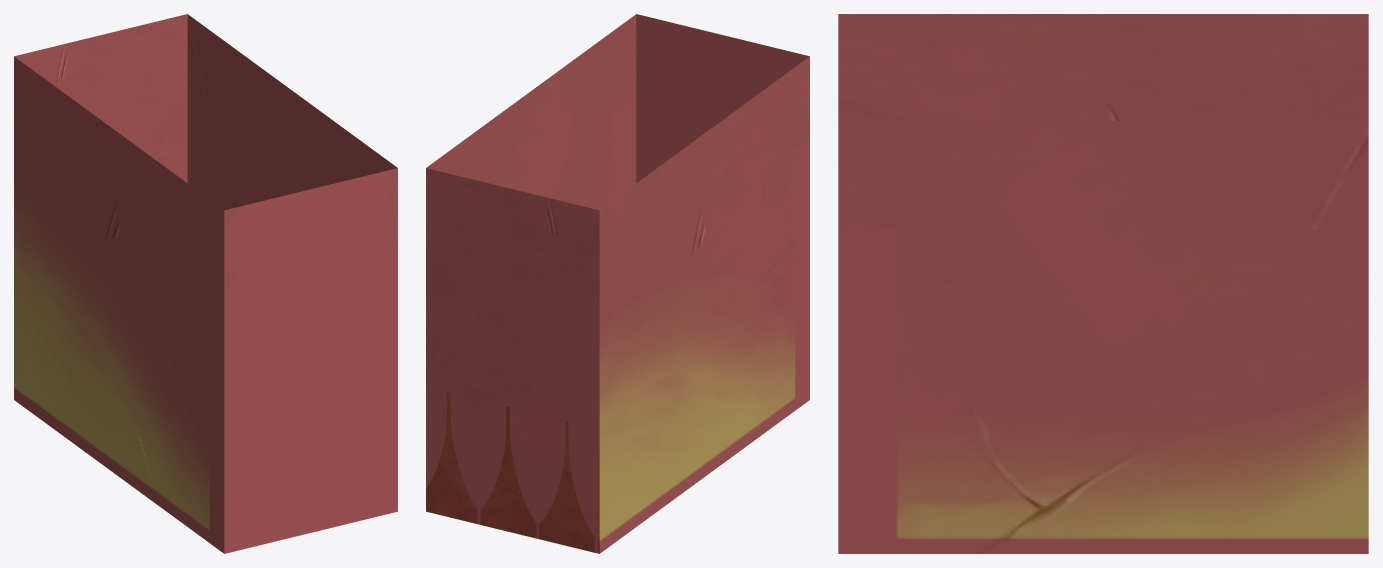
File: Mesh Collider Tutorial.fbx
3 renders of one model, left to right at view 1: azimuth 30°, elevation 25°; view 2: azimuth 150°, elevation 25°; view 3: azimuth 270°, elevation 25°, orthographic. The views are drawn at different scales.
Parts seen in each view (by area): view 1: pCube18; view 2: pCube18; view 3: pCube18.
Part boxes in pixels (bbox=[...]): pCube18: bbox=[14, 14, 397, 553]; pCube18: bbox=[426, 14, 809, 553]; pCube18: bbox=[838, 14, 1368, 553].
Bounding box in the file's own units: 20.02 × 37.84 × 42.
